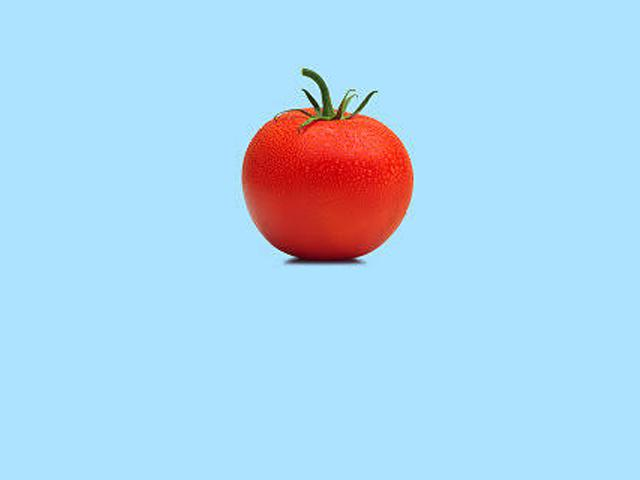tomato: (242, 109, 414, 258)
